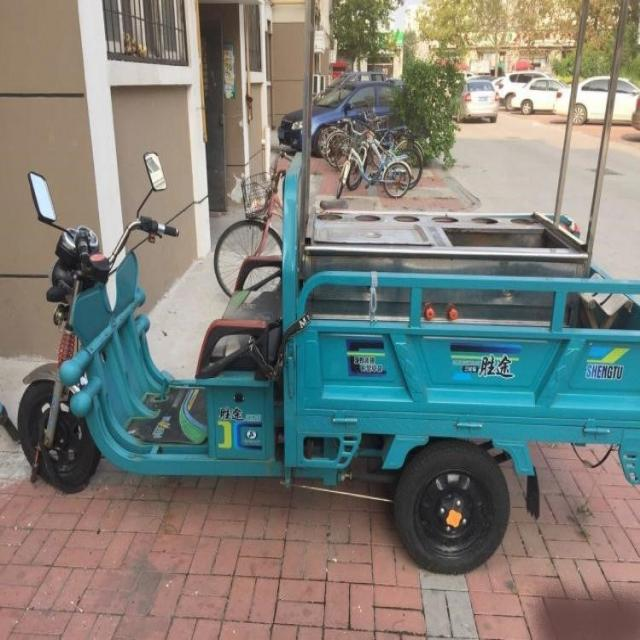bicycle: (212, 140, 294, 297), (334, 116, 412, 199)
car: (276, 78, 405, 155), (555, 72, 639, 126), (509, 75, 565, 114), (452, 76, 498, 122), (497, 72, 553, 109)
tricycle: (18, 145, 637, 570)
